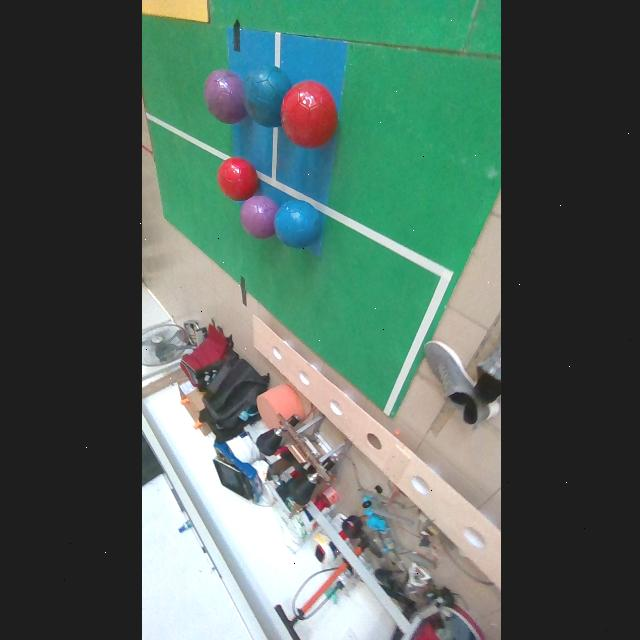B: (242, 66, 290, 127), (272, 199, 322, 248)
P: (201, 68, 244, 124), (239, 196, 277, 238)
R: (279, 80, 335, 148), (215, 158, 257, 200)
